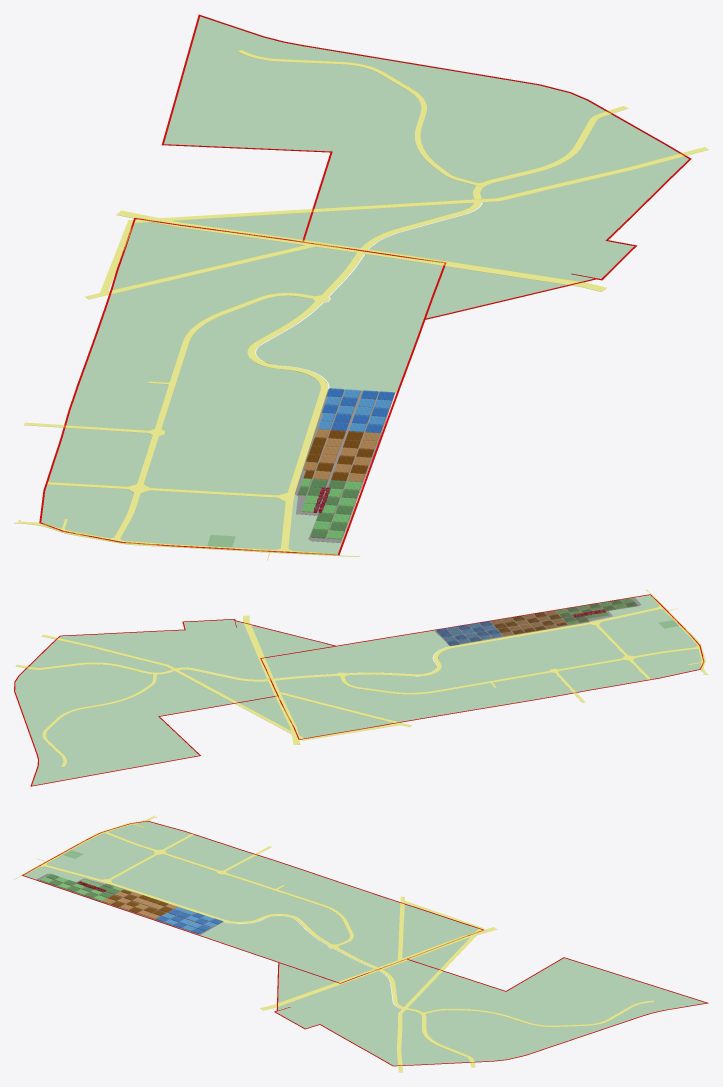
File: Socat 3D_v2.glb
3 views of the same model, one above another, from view 1: azimuth 30°, elevation 25°; view 2: azimuth 150°, elevation 25°; view 3: azimuth 270°, elevation 25° (orthographic). The views are drawn at different scales.
Bounding box in the file's own units: 5558 × 18 × 6345.
